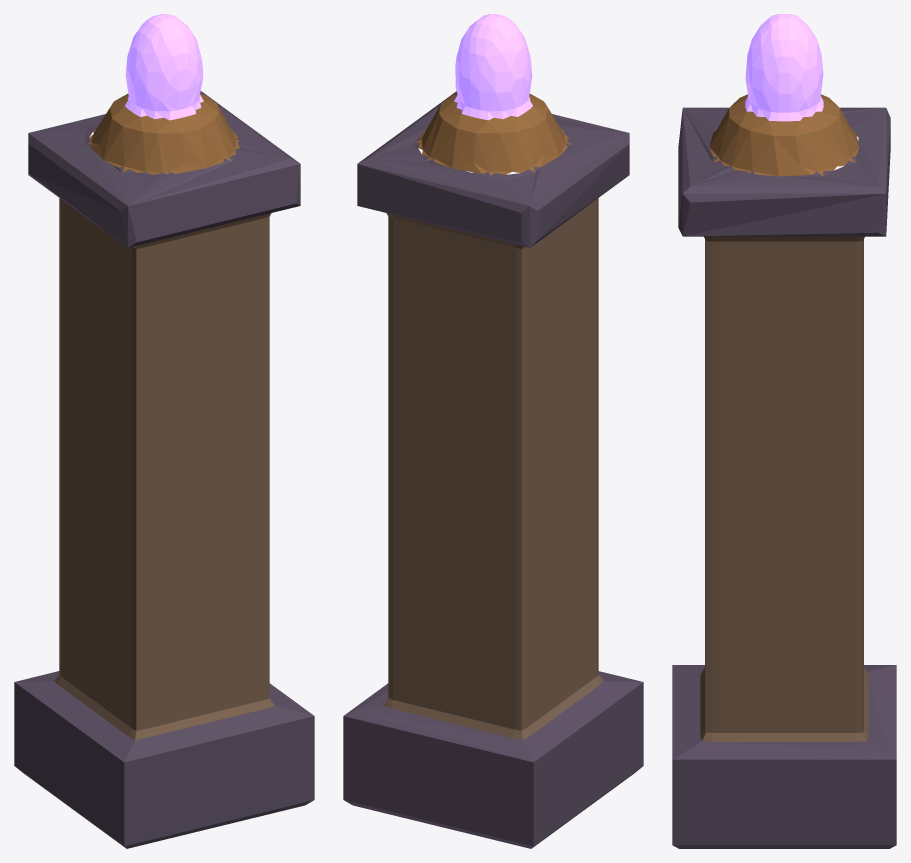
The model's file is barrier_post_spirit.glb.
3 views of the same model, side by side, from view 1: azimuth 30°, elevation 25°; view 2: azimuth 150°, elevation 25°; view 3: azimuth 270°, elevation 25° (orthographic).
Visible parts, largest first — view 1: barrier_post_spirit; view 2: barrier_post_spirit; view 3: barrier_post_spirit.
Part boxes in pixels (left/top/right/bottom): barrier_post_spirit: left=14, top=14, right=314, bottom=848; barrier_post_spirit: left=343, top=14, right=643, bottom=848; barrier_post_spirit: left=672, top=14, right=896, bottom=848.
Size of the model in its own units: 0.5067 by 1.96 by 0.5067.
